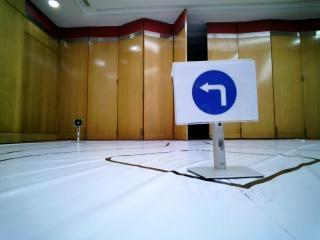left: (180, 66, 246, 115)
